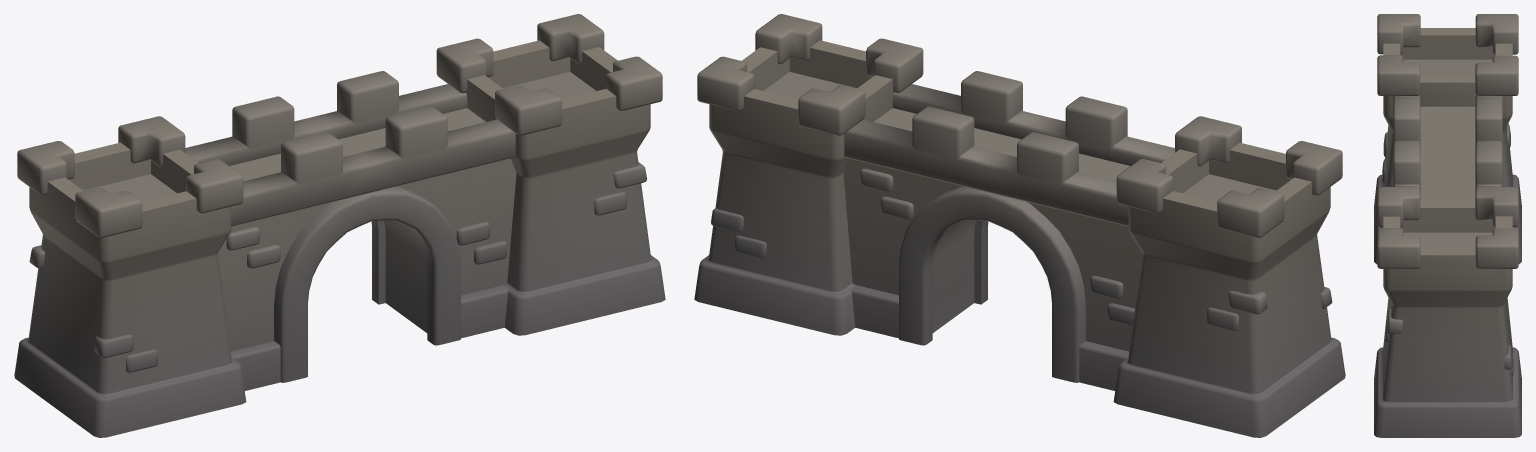
Rendered from arc.fbx.
The picture shows the model from 3 angles, left to right: view 1: azimuth 30°, elevation 25°; view 2: azimuth 150°, elevation 25°; view 3: azimuth 270°, elevation 25°; orthographic projection. The views are drawn at different scales.
Parts seen in each view (by area): view 1: arc; view 2: arc; view 3: arc.
Boxes of the visible parts, box(x1,y1,x2,y2) form: arc: box(14, 14, 665, 437); arc: box(694, 14, 1345, 437); arc: box(1374, 14, 1521, 437).
Bounding box in the file's own units: 817 × 310 × 217.
